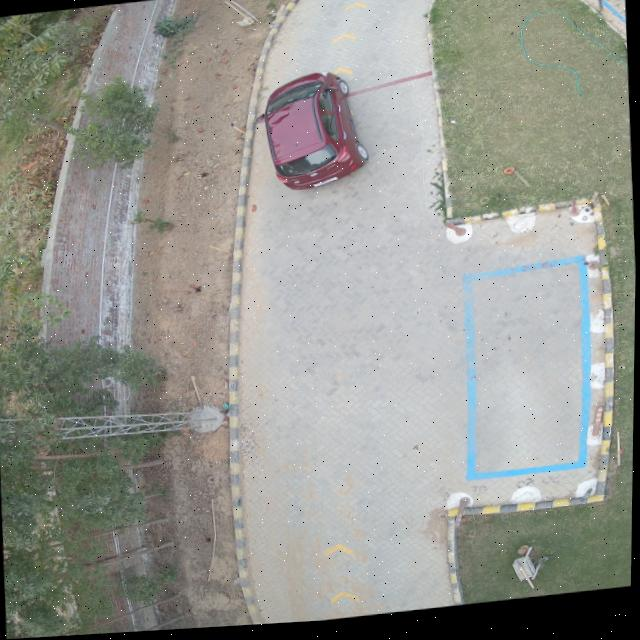car: (259, 75, 369, 193)
